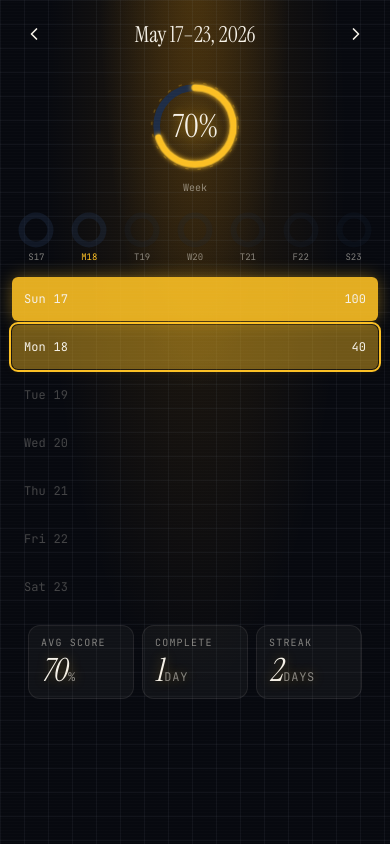
Scenario: C-m9d-014: WeekView — day-tap routing: today → onOpenDay; past archived → PastDayDetail; future → nothing › tapping a past archived row opens PastDayDetail panel
This screenshot has width=390, height=844.
Click the button with aria-label "Sunday, May 17, 2026". click: point(35, 298)
box: [12,276,378,320]
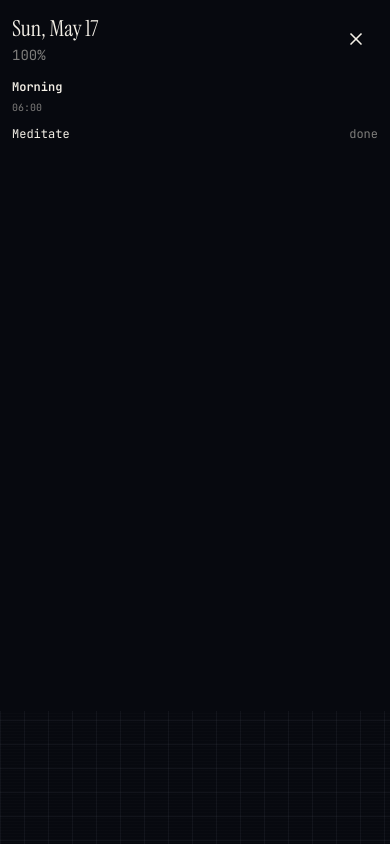
Check: the element named "Day detail" is shown
